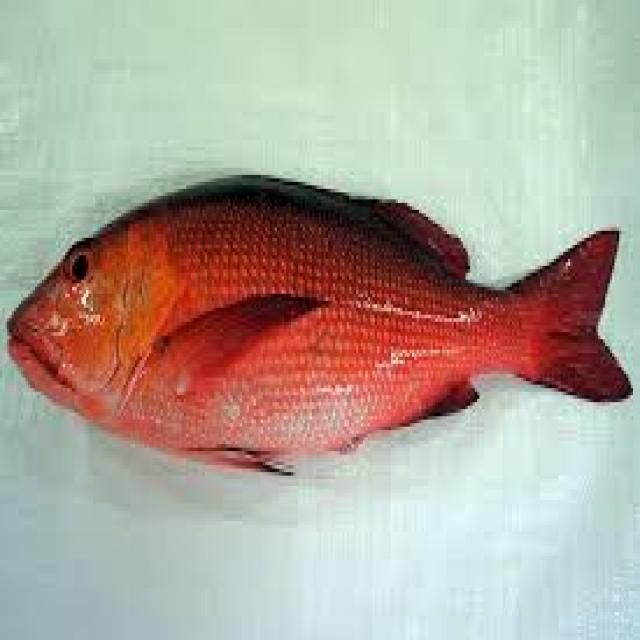northern-red-snapper: (8, 150, 640, 485)
